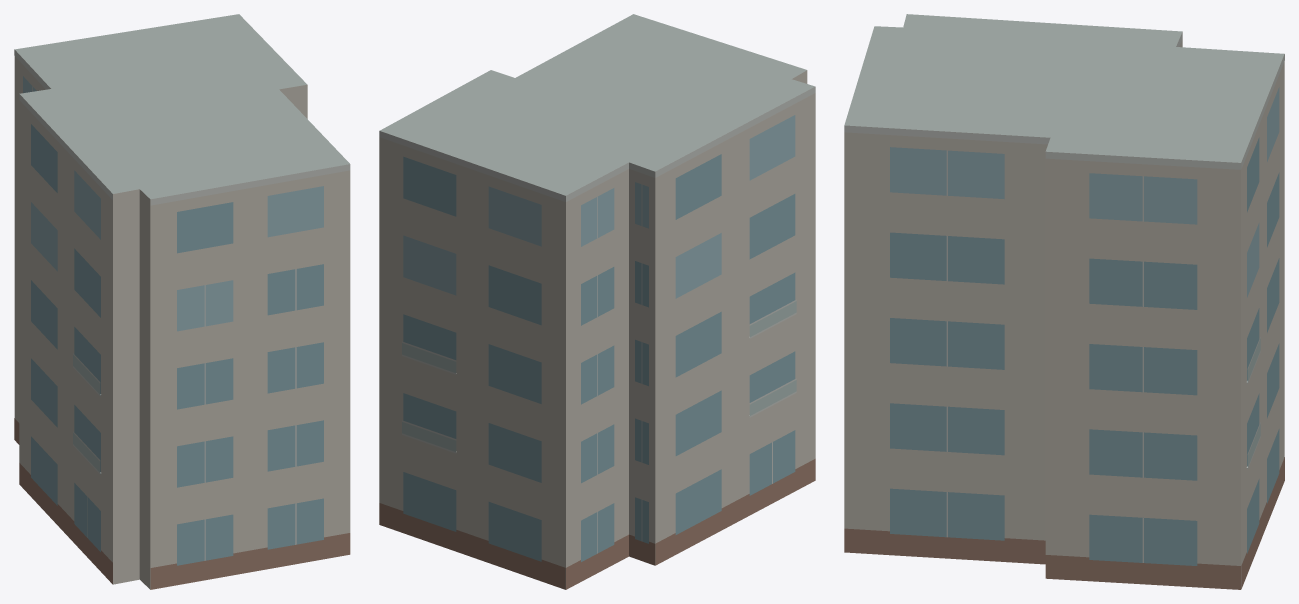
The model's file is survey-upis-32663528.glb.
3 views of the same model, side by side, from view 1: azimuth 30°, elevation 25°; view 2: azimuth 150°, elevation 25°; view 3: azimuth 270°, elevation 25° (orthographic). The views are drawn at different scales.
Visible parts, largest first — view 1: survey-upis-32663528.tmp; view 2: survey-upis-32663528.tmp; view 3: survey-upis-32663528.tmp.
Part boxes in pixels (left/top/right/bottom): survey-upis-32663528.tmp: left=14, top=14, right=350, bottom=589; survey-upis-32663528.tmp: left=379, top=14, right=815, bottom=589; survey-upis-32663528.tmp: left=844, top=14, right=1284, bottom=589.
Bounding box in the file's own units: 11.31 × 15.1 × 14.13.
